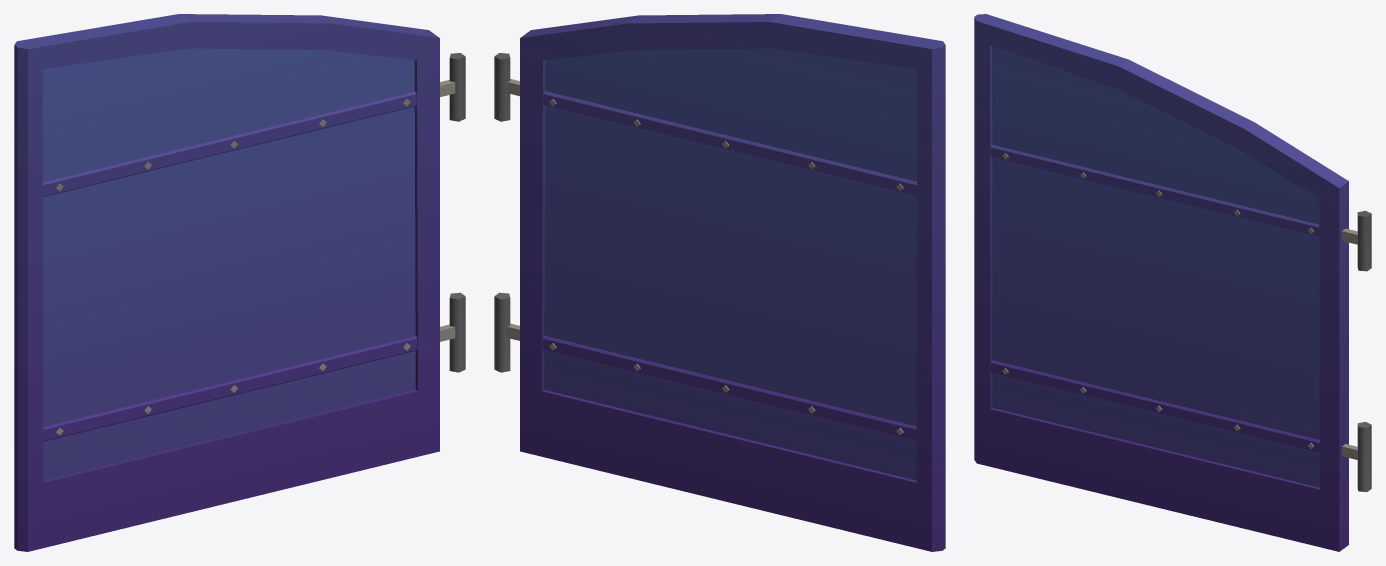
Rendered from WallFence_3_Gate_E.fbx.
3 views of the same model, side by side, from view 1: azimuth 30°, elevation 25°; view 2: azimuth 150°, elevation 25°; view 3: azimuth 330°, elevation 25° (orthographic). The views are drawn at different scales.
Visible parts, largest first — view 1: WallFence_3_Gate_E; view 2: WallFence_3_Gate_E; view 3: WallFence_3_Gate_E.
Part boxes in pixels (x1,y1,x2,y2): WallFence_3_Gate_E: (14, 14, 465, 551); WallFence_3_Gate_E: (494, 14, 945, 551); WallFence_3_Gate_E: (974, 14, 1371, 551).
Bounding box in the file's own units: 189 × 203 × 8.
